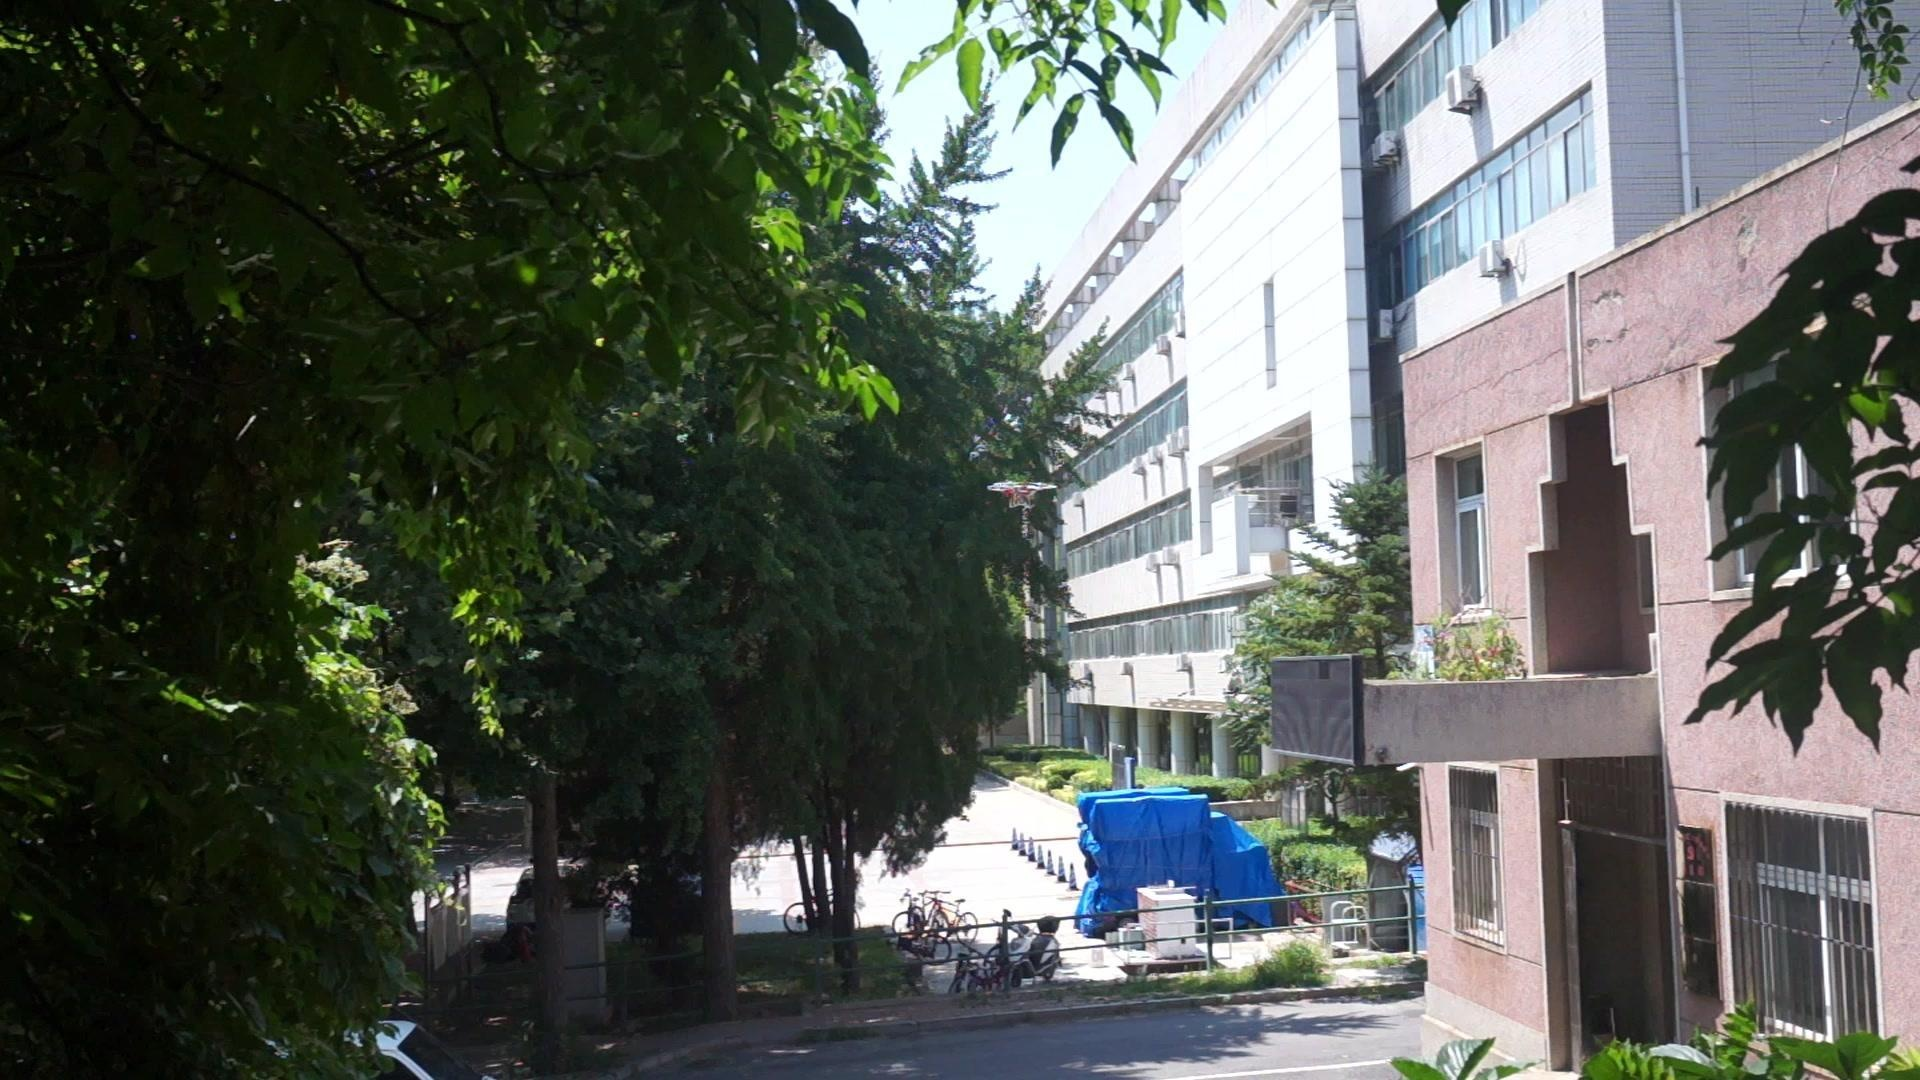UAV: (986, 481, 1060, 512)
